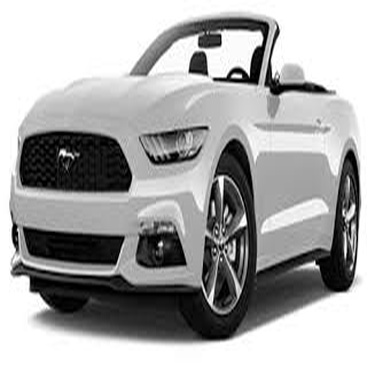car: (4, 6, 367, 339)
